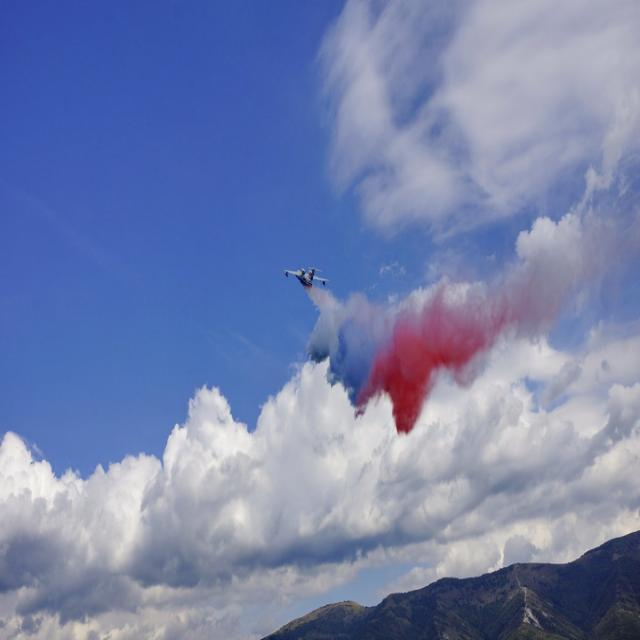MIL_Plane: (283, 265, 329, 289)
